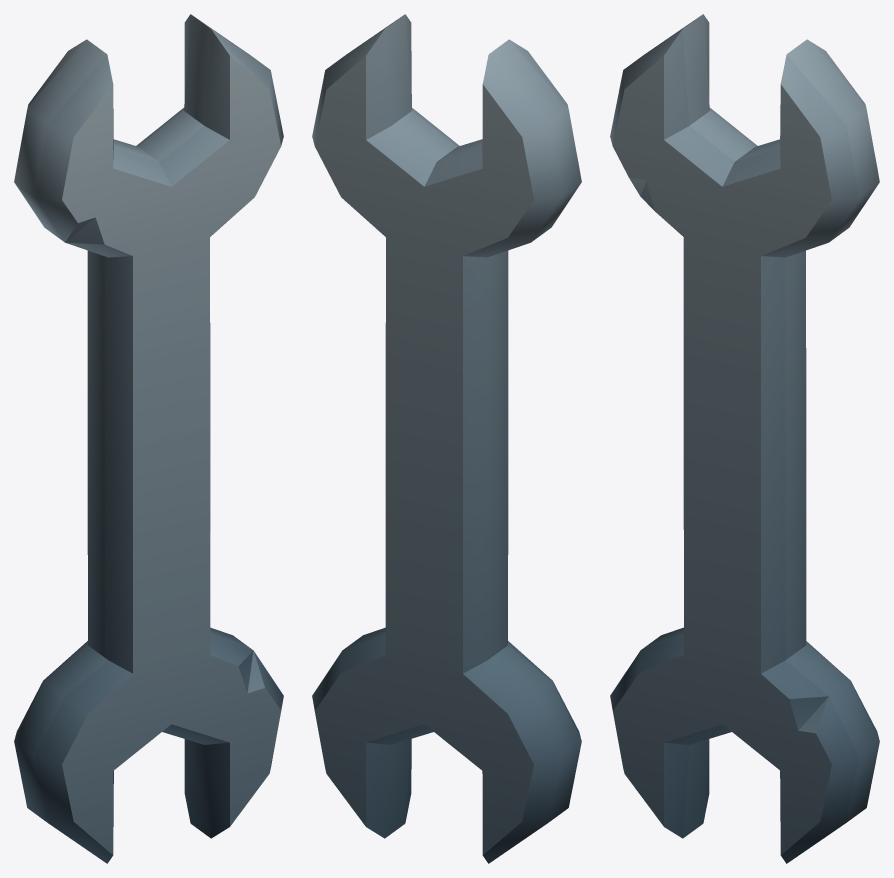
File: wrench_B.glb
3 views of the same model, side by side, from view 1: azimuth 30°, elevation 25°; view 2: azimuth 150°, elevation 25°; view 3: azimuth 330°, elevation 25° (orthographic).
Visible parts, largest first — view 1: wrench_B; view 2: wrench_B; view 3: wrench_B.
Part boxes in pixels (left/top/right/bottom): wrench_B: left=14, top=14, right=283, bottom=863; wrench_B: left=312, top=14, right=581, bottom=863; wrench_B: left=610, top=14, right=879, bottom=863.
Size of the model in its own units: 0.2639 by 0.819 by 0.0829.
Materials: 1 (1 with a texture image).
